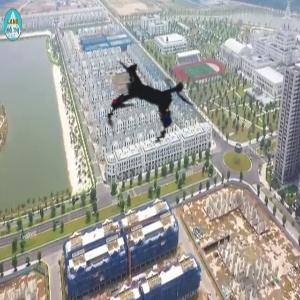drone: (74, 21, 232, 179)
